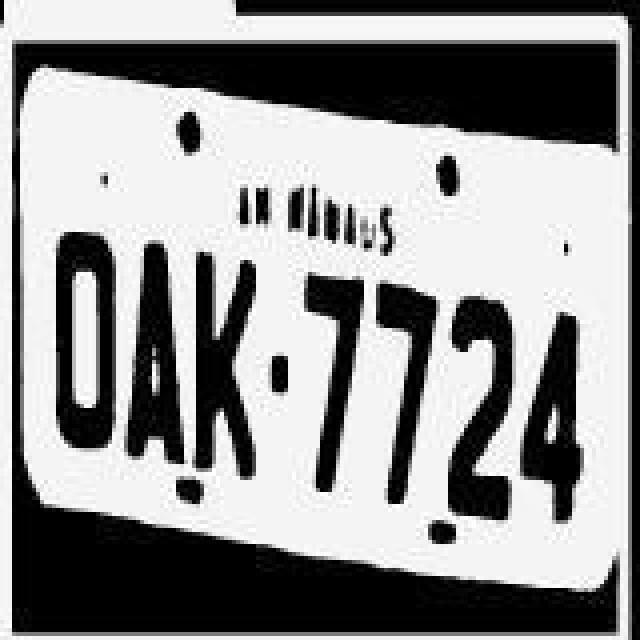2: (440, 278, 520, 522)
4: (516, 302, 596, 530)
7: (370, 266, 446, 510), (302, 262, 370, 506)
A: (124, 232, 188, 472)
K: (192, 240, 264, 480)
O: (48, 224, 120, 456)
